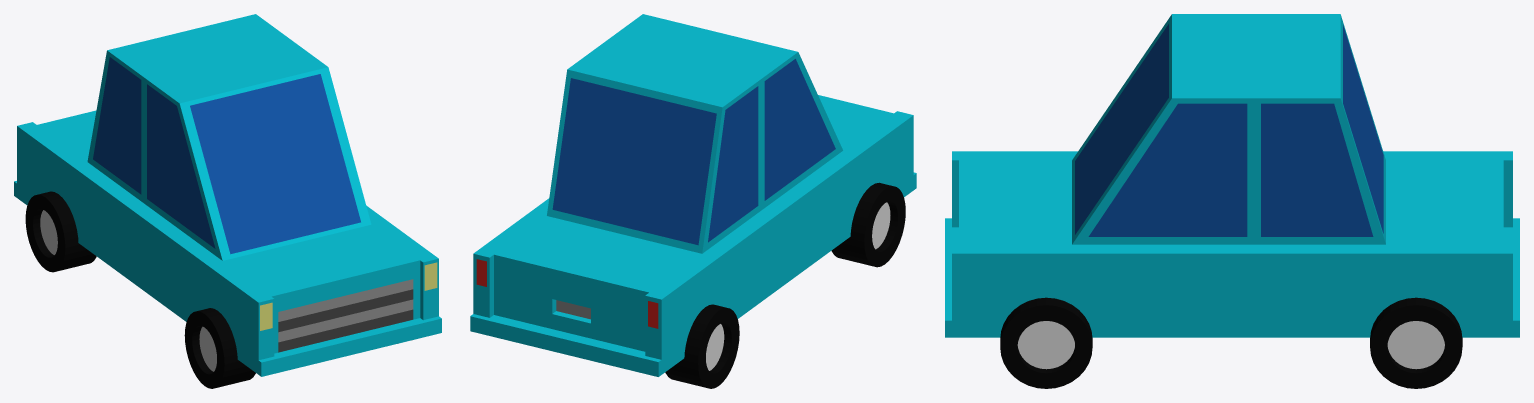
Rendered from car_one_piece_blue.dae.
The picture shows the model from 3 angles, left to right: view 1: azimuth 30°, elevation 25°; view 2: azimuth 150°, elevation 25°; view 3: azimuth 270°, elevation 25°; orthographic projection. The views are drawn at different scales.
Visible parts, largest first — view 1: Tire; view 2: Tire; view 3: Tire.
Boxes of the visible parts, bbox=[...] form: Tire: bbox=[14, 14, 441, 388]; Tire: bbox=[470, 14, 916, 388]; Tire: bbox=[945, 14, 1519, 388].
Bounding box in the file's own units: 6 × 12.43 × 6.54.
